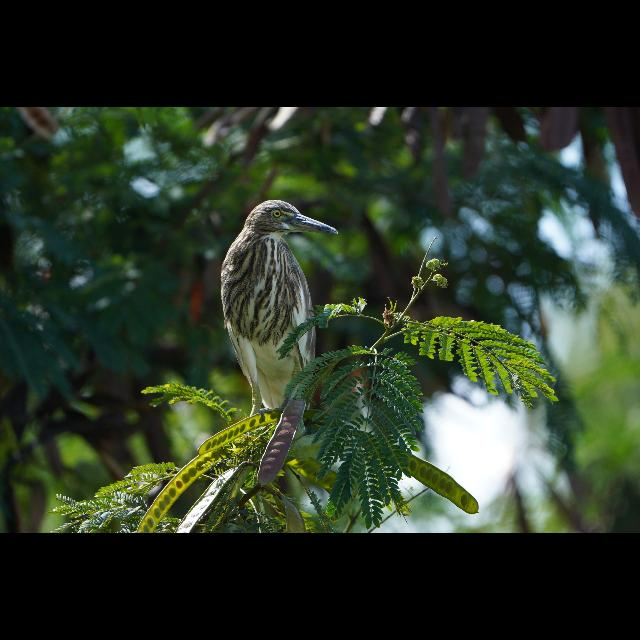heron: (216, 200, 338, 410)
